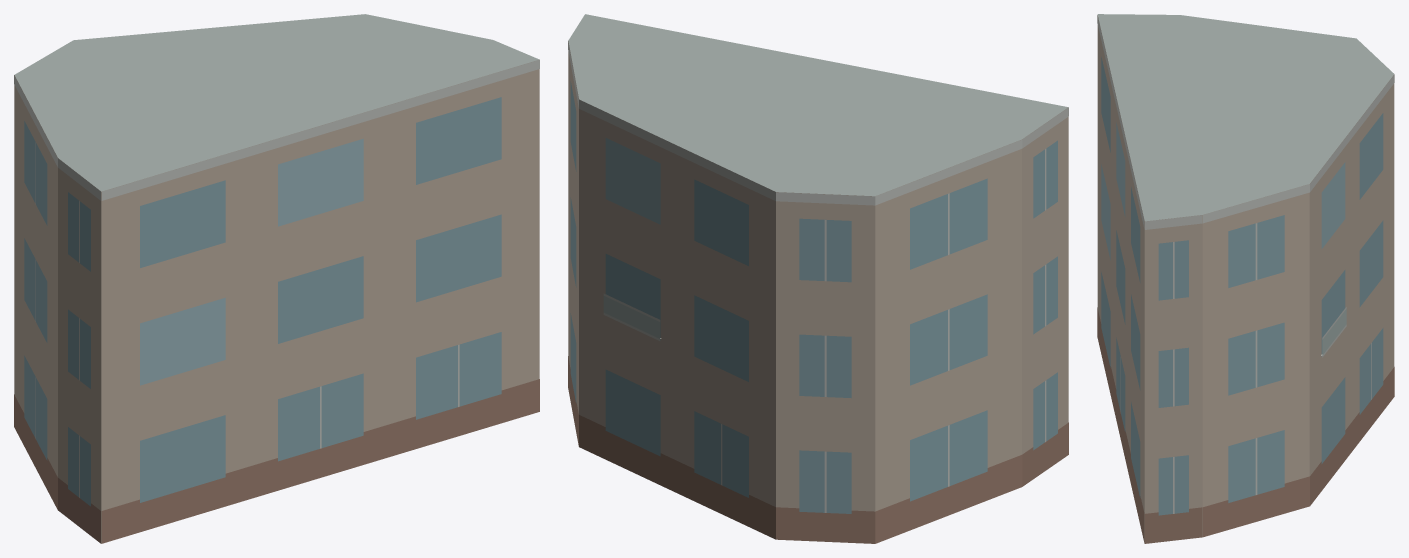
The model's file is survey-upis-32896434.glb.
The picture shows the model from 3 angles, left to right: view 1: azimuth 30°, elevation 25°; view 2: azimuth 150°, elevation 25°; view 3: azimuth 270°, elevation 25°; orthographic projection. The views are drawn at different scales.
Parts seen in each view (by area): view 1: survey-upis-32896434.tmp; view 2: survey-upis-32896434.tmp; view 3: survey-upis-32896434.tmp.
Boxes of the visible parts, bbox=[...] form: survey-upis-32896434.tmp: bbox=[14, 14, 539, 543]; survey-upis-32896434.tmp: bbox=[568, 14, 1068, 543]; survey-upis-32896434.tmp: bbox=[1097, 14, 1394, 543].
Size of the model in its own units: 12.56 by 9.1 by 7.61.
